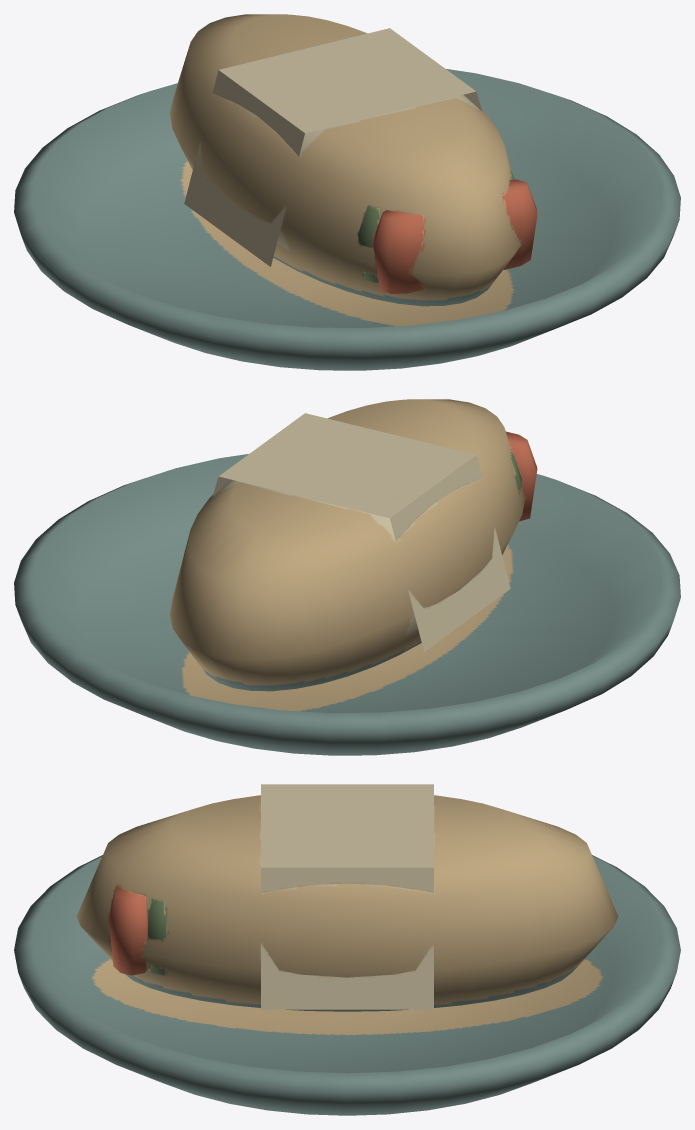
Rendered from prp_market_wrap_v01.glb.
The picture shows the model from 3 angles, top to bottom: view 1: azimuth 30°, elevation 25°; view 2: azimuth 150°, elevation 25°; view 3: azimuth 270°, elevation 25°; orthographic projection.
Visible parts, largest first — view 1: lod0__prp_market_wrap_v01; view 2: lod0__prp_market_wrap_v01; view 3: lod0__prp_market_wrap_v01.
Part boxes in pixels (x1=…): lod0__prp_market_wrap_v01: x1=14, y1=14, x2=680, y2=370; lod0__prp_market_wrap_v01: x1=14, y1=399, x2=680, y2=755; lod0__prp_market_wrap_v01: x1=14, y1=784, x2=680, y2=1115.
Bounding box in the file's own units: 0.54 × 0.171 × 0.54.
Materials: 1 (1 with a texture image).
